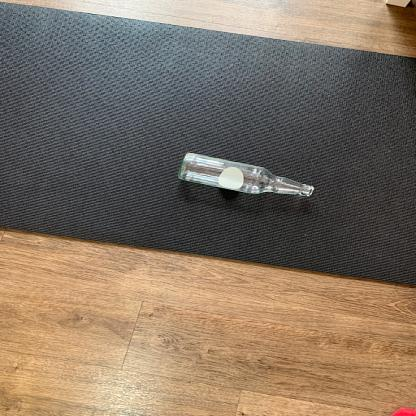trash: (175, 150, 317, 198)
